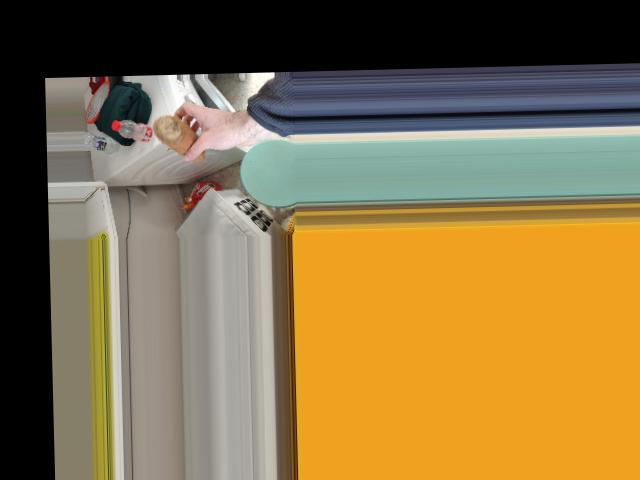sweet_potato: (152, 118, 204, 165)
